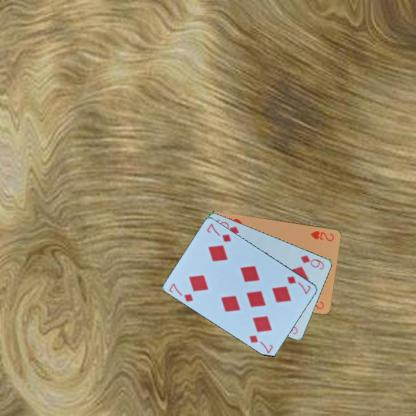2h: (309, 228, 335, 242)
6d: (298, 252, 326, 270)
7d: (166, 280, 195, 303), (285, 274, 312, 296)
